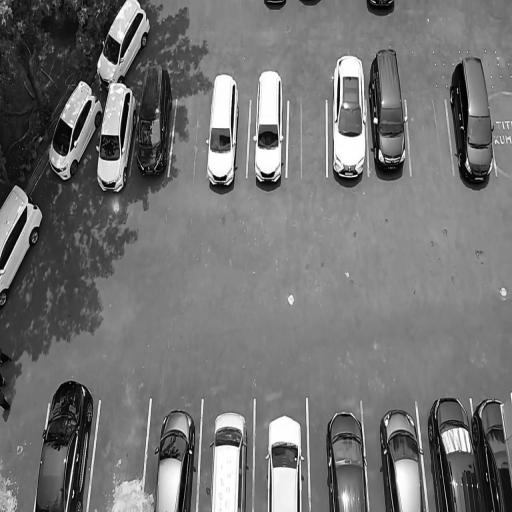Car: (30, 379, 103, 512), (39, 76, 108, 196), (446, 47, 500, 191), (0, 166, 50, 318), (427, 389, 487, 512), (86, 79, 141, 199), (90, 0, 157, 94), (129, 59, 177, 187), (370, 40, 410, 191), (330, 50, 371, 189), (151, 400, 201, 512), (470, 385, 512, 512), (204, 69, 245, 193), (260, 412, 310, 512), (378, 405, 424, 512), (250, 61, 286, 196), (208, 407, 253, 512), (324, 405, 368, 512)
Space Available: (86, 389, 150, 512), (408, 85, 451, 183), (169, 91, 210, 190), (288, 87, 326, 188), (490, 90, 512, 174)
